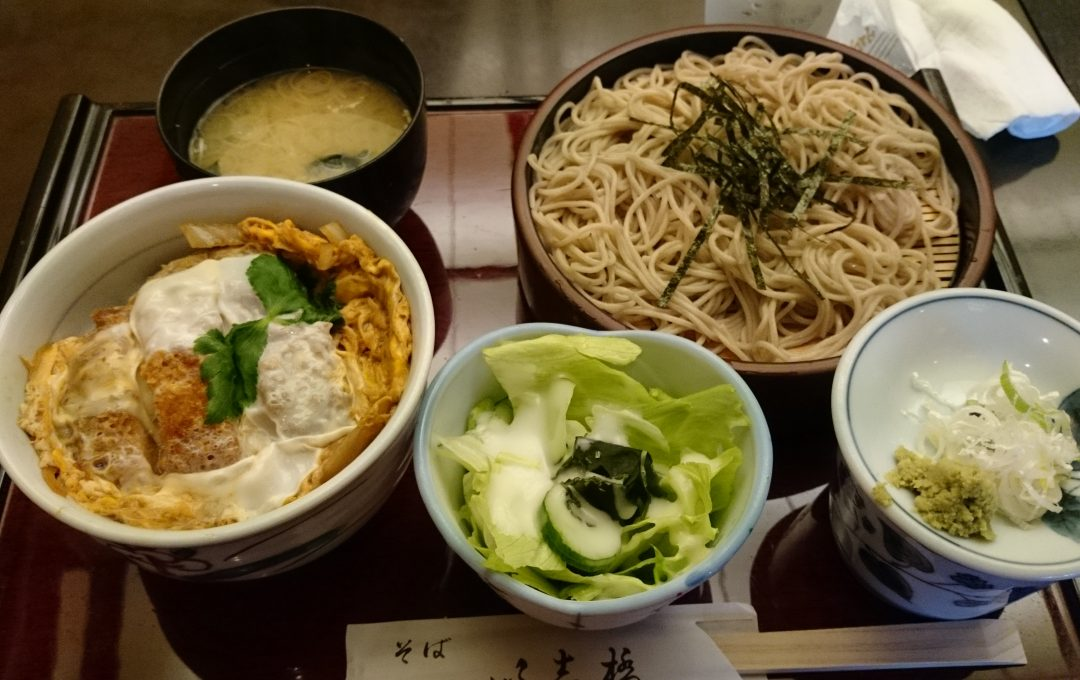Soba: (547, 40, 961, 357)
